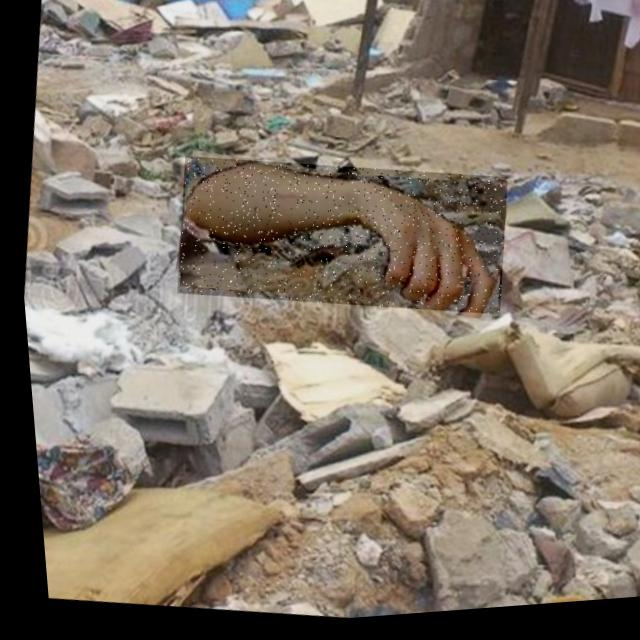Person in Rubble: (163, 140, 513, 340)
